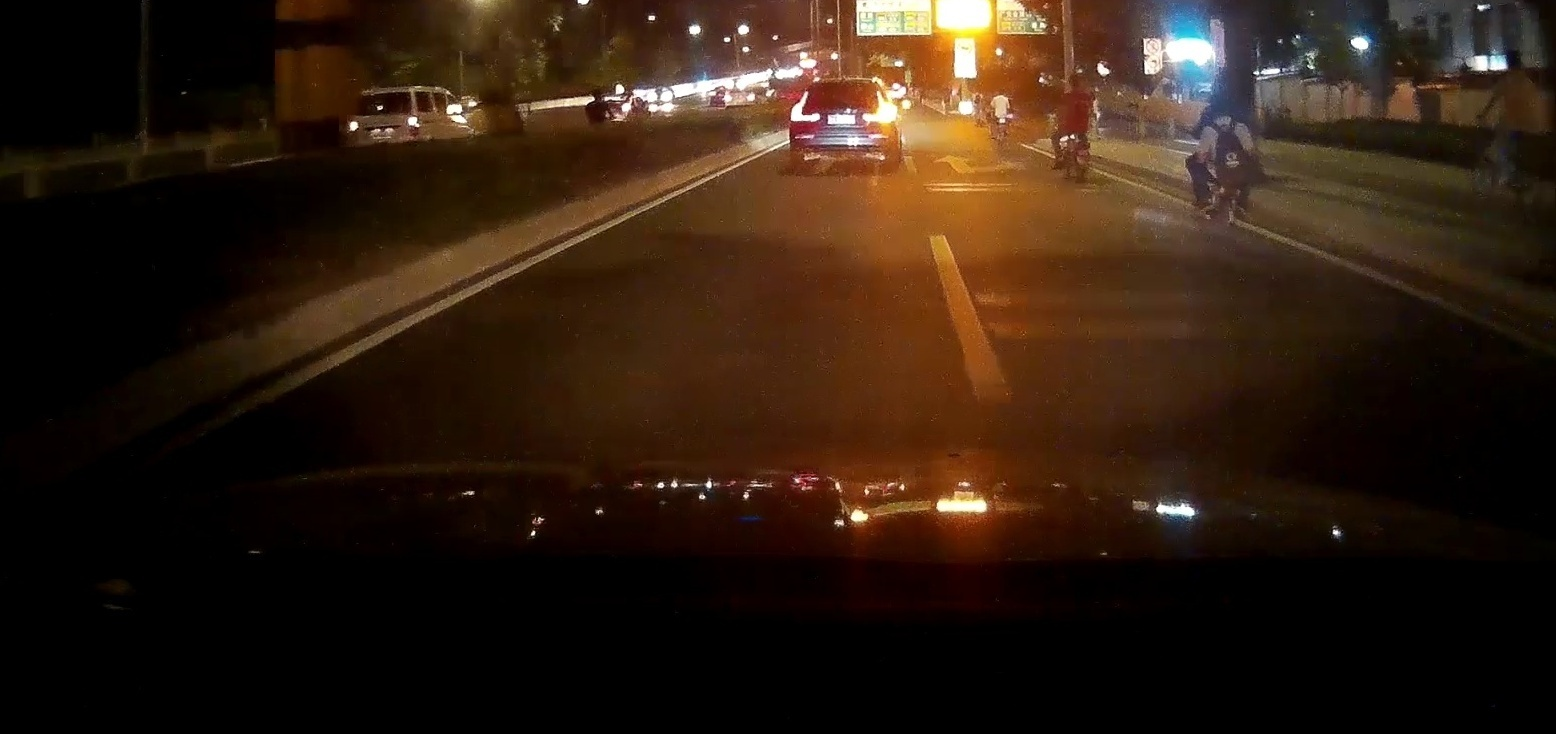L_light: (790, 91, 820, 123), (350, 120, 359, 141)
R_light: (862, 91, 892, 123), (407, 117, 418, 137)
T_light: (833, 82, 847, 86), (380, 93, 392, 96)
night-no: (348, 87, 421, 148)
night-right: (789, 77, 897, 164)
